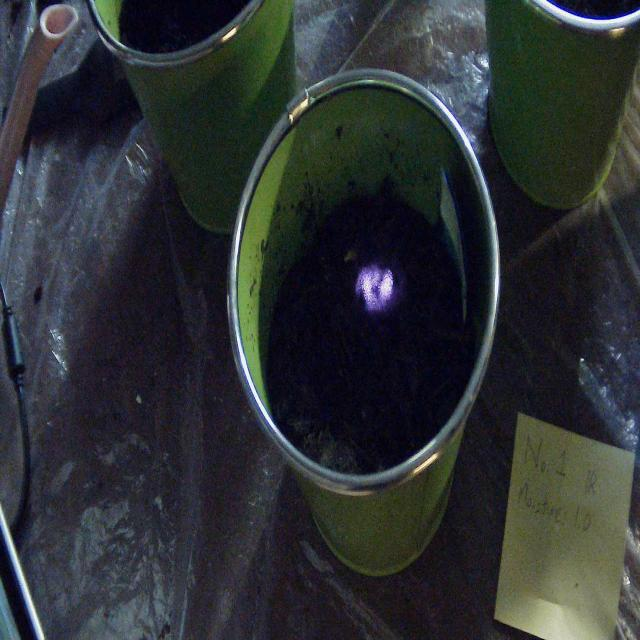soil-moisture-1.0: (357, 263, 396, 315)
